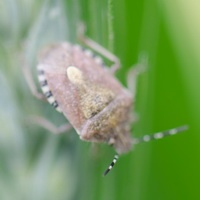insect: (37, 38, 187, 174)
